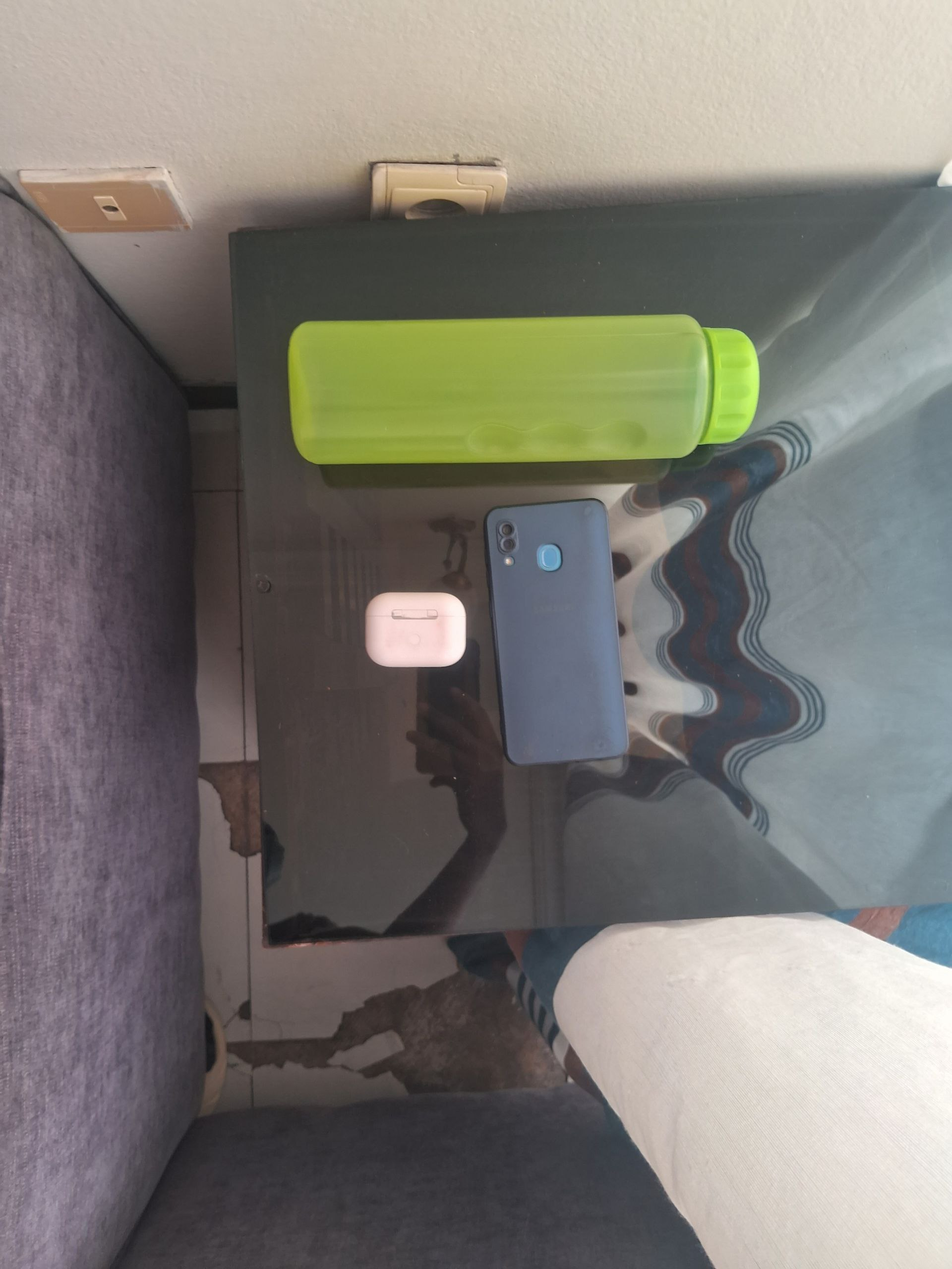Air_pod: (359, 588, 474, 670)
Smart_phone: (481, 492, 635, 769)
Water_bottle: (284, 309, 760, 468)
